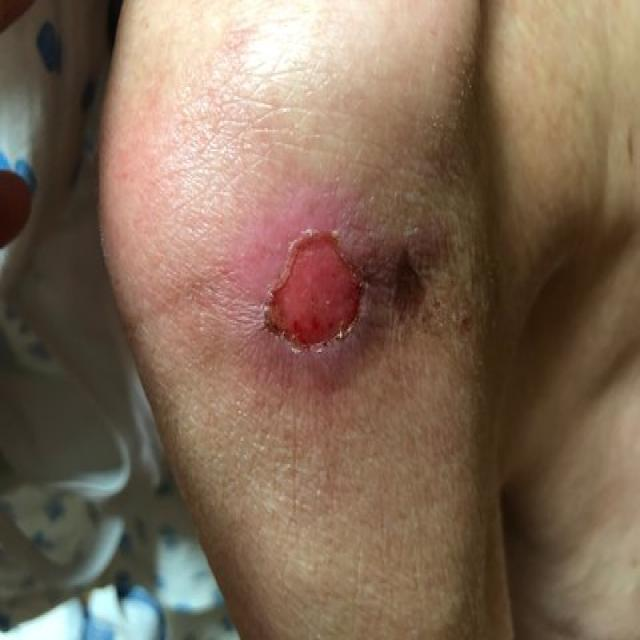stage-2: (268, 237, 363, 345)
